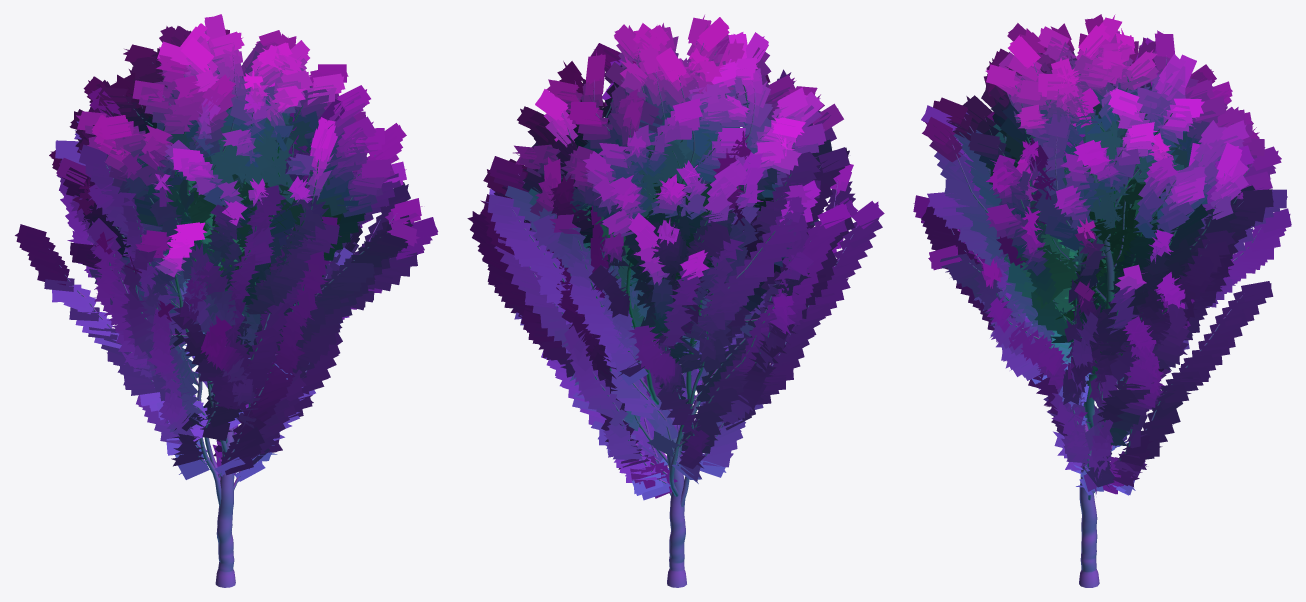
The model's file is tree_birch_s1_a30.fbx.
The picture shows the model from 3 angles, left to right: view 1: azimuth 30°, elevation 25°; view 2: azimuth 150°, elevation 25°; view 3: azimuth 270°, elevation 25°; orthographic projection.
Visible parts, largest first — view 1: tree_birch_s1_a30_leaves, tree_birch_s1_a30_branches; view 2: tree_birch_s1_a30_leaves, tree_birch_s1_a30_branches; view 3: tree_birch_s1_a30_leaves, tree_birch_s1_a30_branches.
Part boxes in pixels (x1=…): tree_birch_s1_a30_leaves: x1=15, y1=14, x2=438, y2=481; tree_birch_s1_a30_branches: x1=48, y1=54, x2=397, y2=587; tree_birch_s1_a30_leaves: x1=467, y1=15, x2=884, y2=500; tree_birch_s1_a30_branches: x1=512, y1=41, x2=857, y2=587; tree_birch_s1_a30_leaves: x1=913, y1=14, x2=1291, y2=495; tree_birch_s1_a30_branches: x1=948, y1=48, x2=1261, y2=587.
Bounding box in the file's own units: 8.31 × 12.47 × 7.75.
